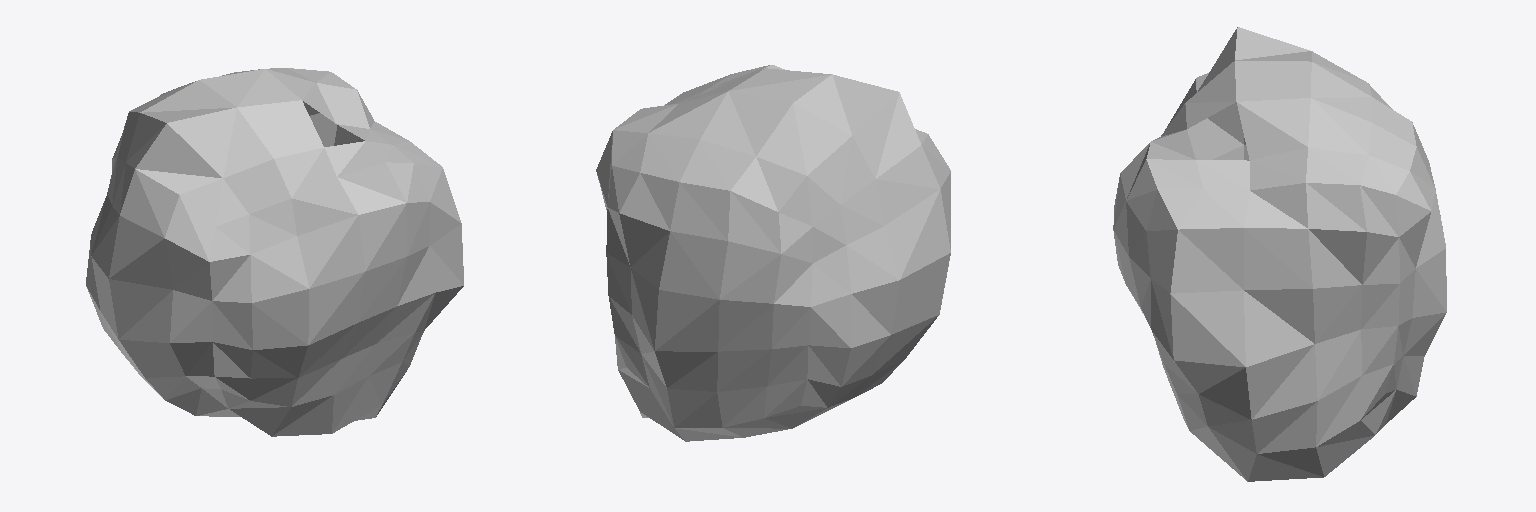
Rendered from asteroidSmall.obj.
3 views of the same model, side by side, from view 1: azimuth 30°, elevation 25°; view 2: azimuth 150°, elevation 25°; view 3: azimuth 270°, elevation 25° (orthographic).
Visible parts, largest first — view 1: Object.1; view 2: Object.1; view 3: Object.1.
Boxes of the visible parts, <box> form: Object.1: <box>86,68,463,436</box>; Object.1: <box>596,65,950,441</box>; Object.1: <box>1113,27,1446,481</box>.
Bounding box in the file's own units: 3.9 × 3.96 × 3.41.